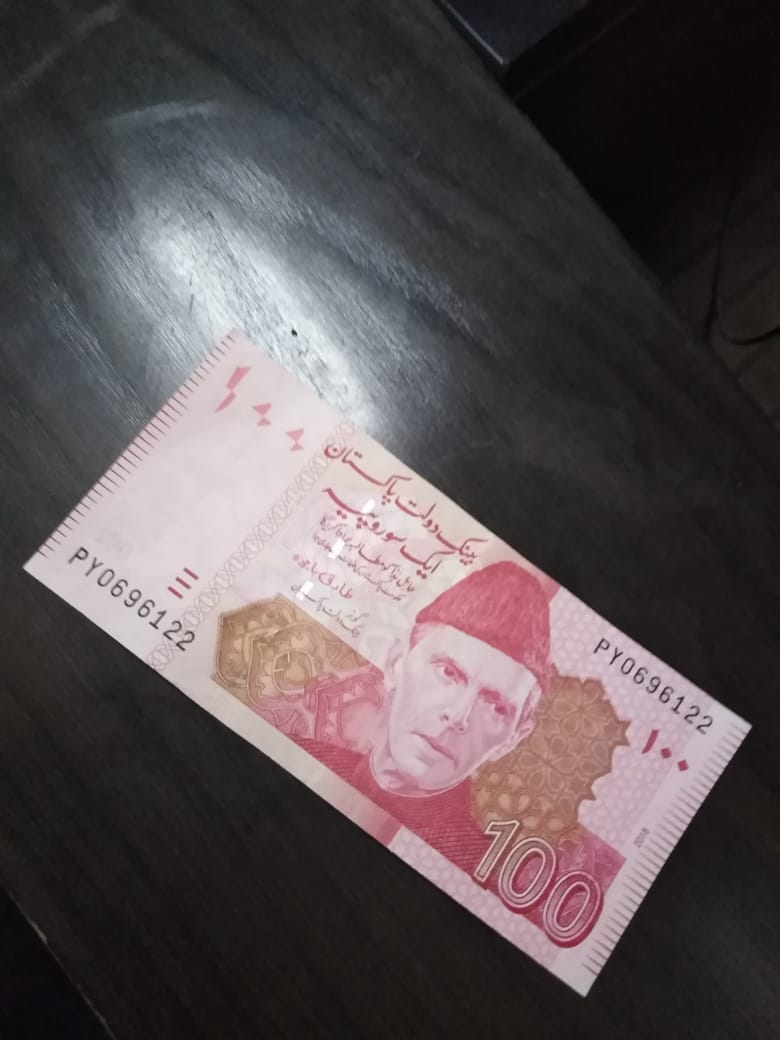100 rupee: (27, 325, 755, 998)
